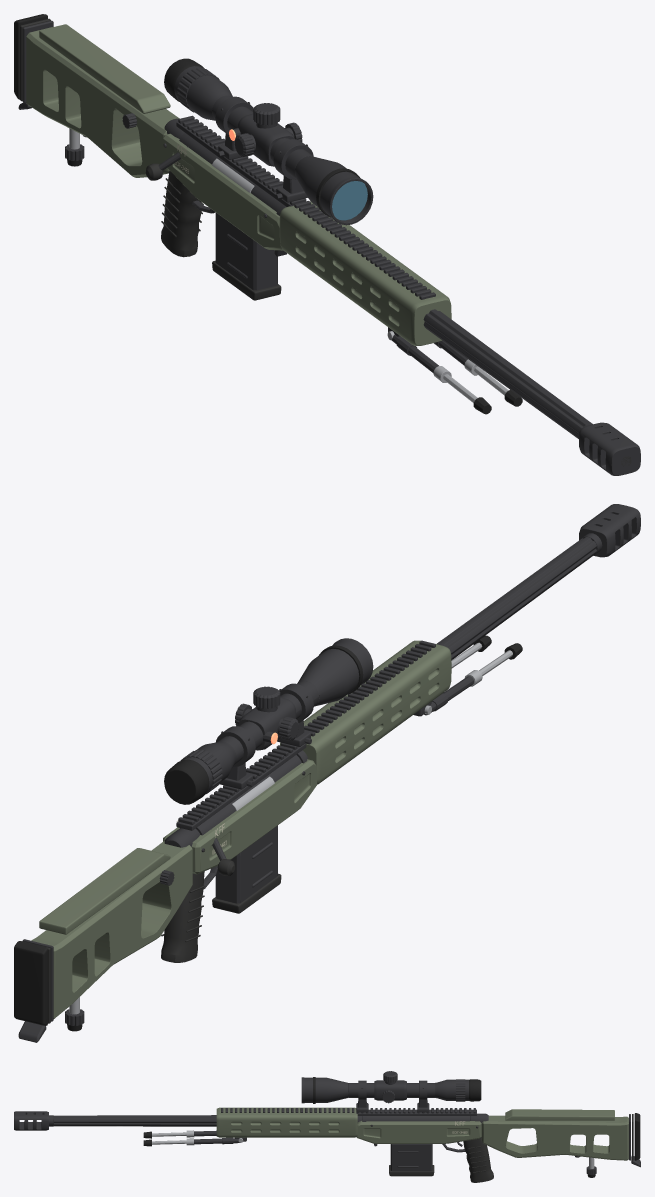
File: kff.glb
The picture shows the model from 3 angles, top to bottom: view 1: azimuth 30°, elevation 25°; view 2: azimuth 150°, elevation 25°; view 3: azimuth 270°, elevation 25°; orthographic projection. The views are drawn at different scales.
Parts seen in each view (by area): view 1: Body; view 2: Body; view 3: Body.
Boxes of the visible parts, x1=… form: Body: x1=14, y1=14, x2=640, y2=475; Body: x1=14, y1=504, x2=640, y2=1042; Body: x1=14, y1=1071, x2=640, y2=1182.
Bounding box in the file's own units: 0.0915 × 0.2534 × 1.34.
